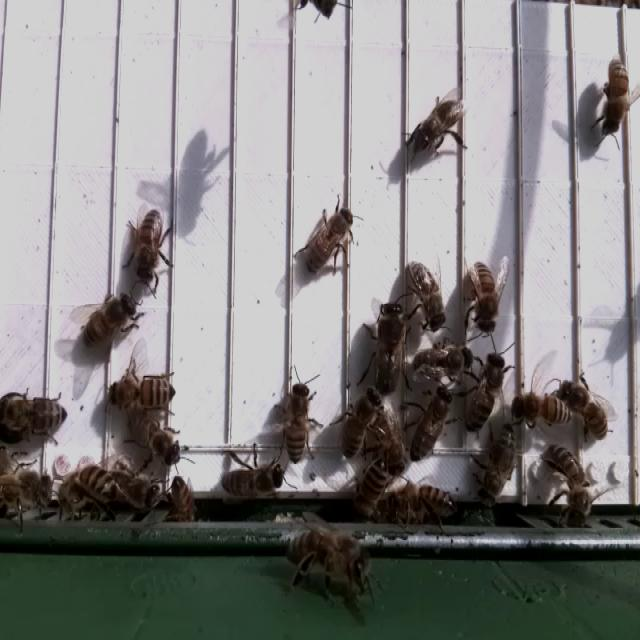Drone: (372, 299, 407, 399)
Worker: (301, 202, 358, 280), (545, 439, 595, 521), (407, 383, 454, 465), (466, 347, 508, 436), (410, 94, 470, 156), (78, 292, 139, 352), (558, 376, 611, 442), (104, 367, 180, 413), (406, 257, 449, 335), (336, 387, 382, 459), (1, 393, 70, 438), (219, 459, 286, 505), (281, 376, 315, 466), (464, 258, 502, 338), (131, 204, 166, 289), (598, 54, 632, 140), (406, 340, 471, 382), (351, 455, 390, 524), (509, 393, 573, 428)
